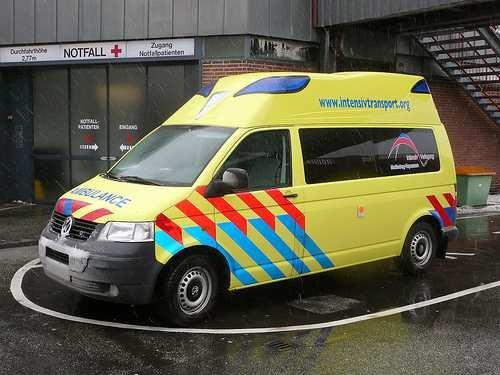Ambulance: (49, 65, 457, 326)
